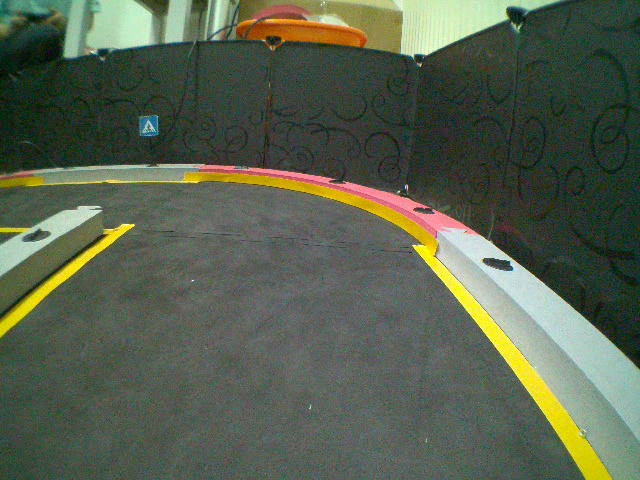crossing: (141, 114, 159, 137)
